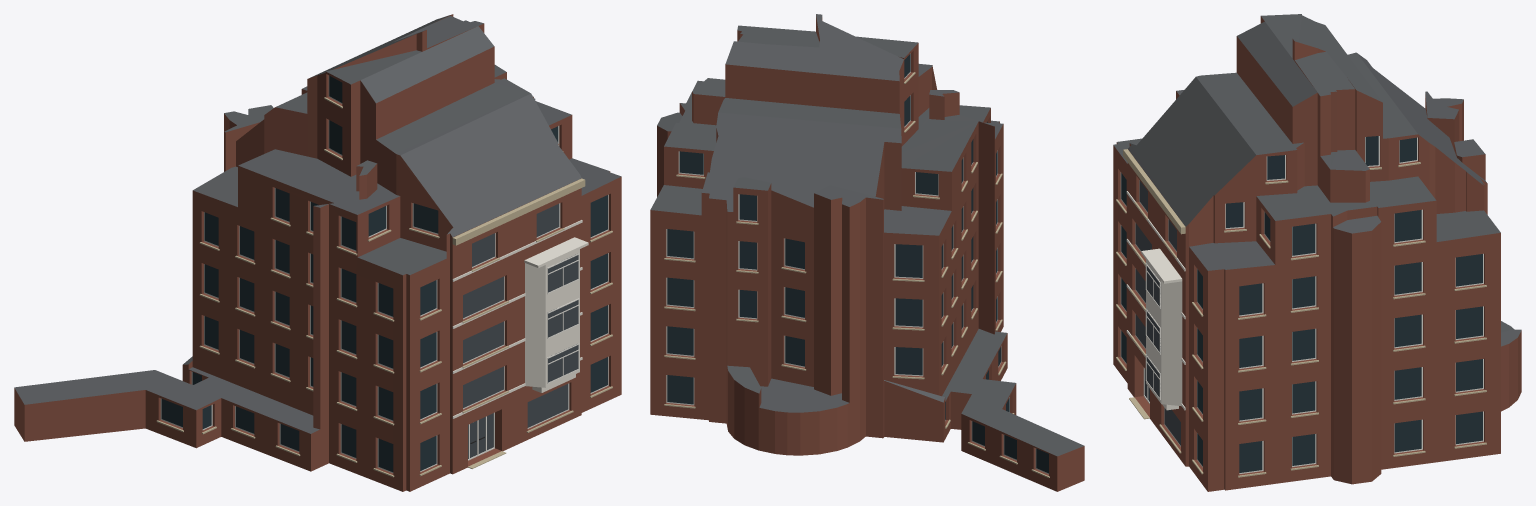
The model's file is recipe-large-koninginneweg-34-150885.glb.
3 renders of one model, left to right at view 1: azimuth 30°, elevation 25°; view 2: azimuth 150°, elevation 25°; view 3: azimuth 270°, elevation 25°, orthographic. The views are drawn at different scales.
Parts seen in each view (by area): view 1: koninginneweg-34-150885; view 2: koninginneweg-34-150885; view 3: koninginneweg-34-150885.
Boxes of the visible parts, left/top/right/bottom form: koninginneweg-34-150885: left=14, top=14, right=621, bottom=491; koninginneweg-34-150885: left=650, top=14, right=1084, bottom=491; koninginneweg-34-150885: left=1113, top=14, right=1521, bottom=491.
Bounding box in the file's own units: 34.07 × 24.31 × 23.97.
